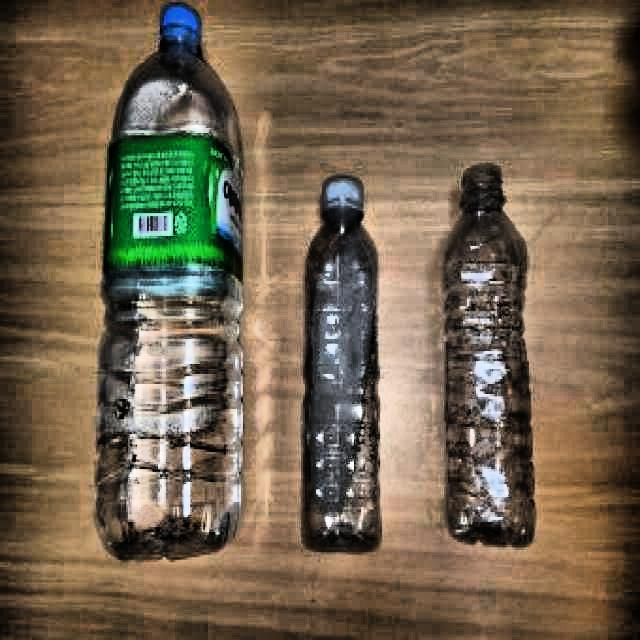plastic bottle: (96, 2, 243, 560), (445, 164, 536, 546), (303, 176, 382, 552)
